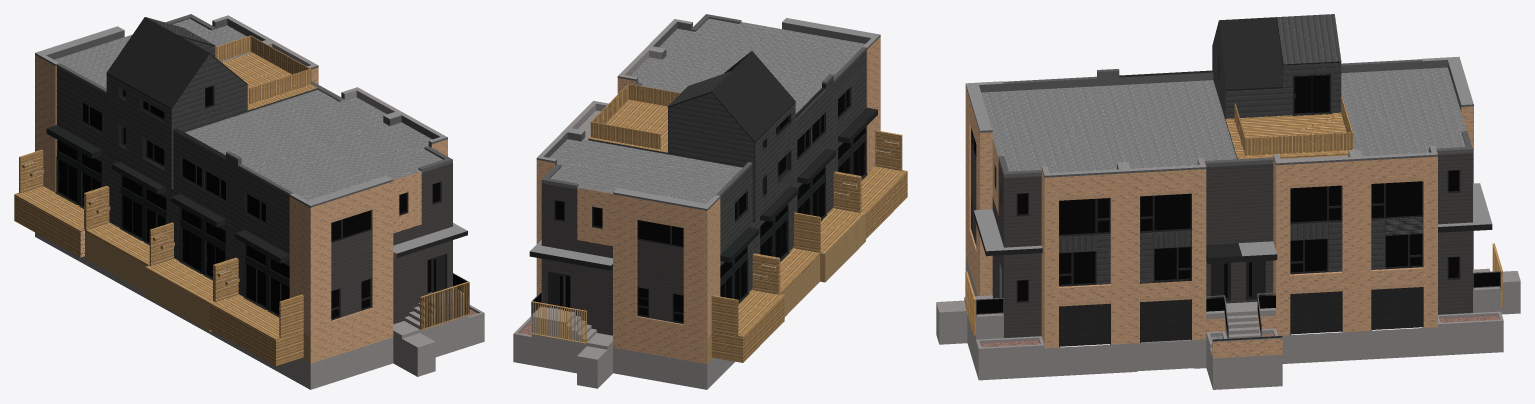
3 views of the same model, side by side, from view 1: azimuth 30°, elevation 25°; view 2: azimuth 150°, elevation 25°; view 3: azimuth 270°, elevation 25° (orthographic). The views are drawn at different scales.
Parts seen in each view (by area): view 1: Mesh27, Mesh15, Mesh23, Mesh03, Group_46_1; view 2: Mesh03, Mesh15, Mesh27, Mesh23; view 3: Mesh27, Mesh15, Mesh03, Mesh23.
Boxes of the visible parts, bbox=[...] form: Mesh27: bbox=[209, 112, 484, 389]; Mesh15: bbox=[85, 17, 321, 312]; Mesh23: bbox=[145, 87, 402, 348]; Mesh03: bbox=[14, 14, 272, 276]; Group_46_1: bbox=[85, 186, 110, 229]; Mesh03: bbox=[513, 129, 784, 389]; Mesh15: bbox=[565, 51, 819, 316]; Mesh27: bbox=[646, 14, 907, 238]; Mesh23: bbox=[617, 47, 865, 282]; Mesh27: bbox=[936, 76, 1125, 380]; Mesh15: bbox=[1212, 14, 1356, 387]; Mesh03: bbox=[1341, 56, 1520, 359]; Mesh23: bbox=[1097, 69, 1247, 389].
Size of the model in its own units: 663 by 571 by 1112.
23 materials, 17 textured.
